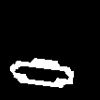chain: (10, 58, 73, 87)
